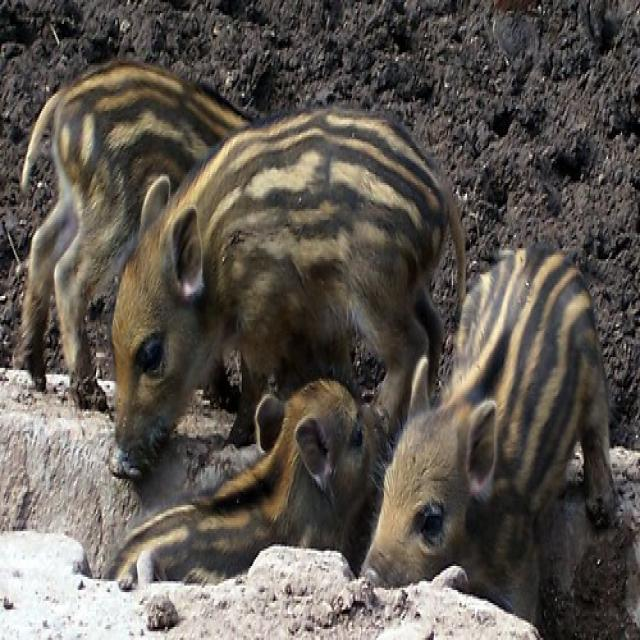boar: (106, 101, 484, 479), (5, 41, 354, 418), (354, 215, 640, 600), (106, 372, 420, 600)
